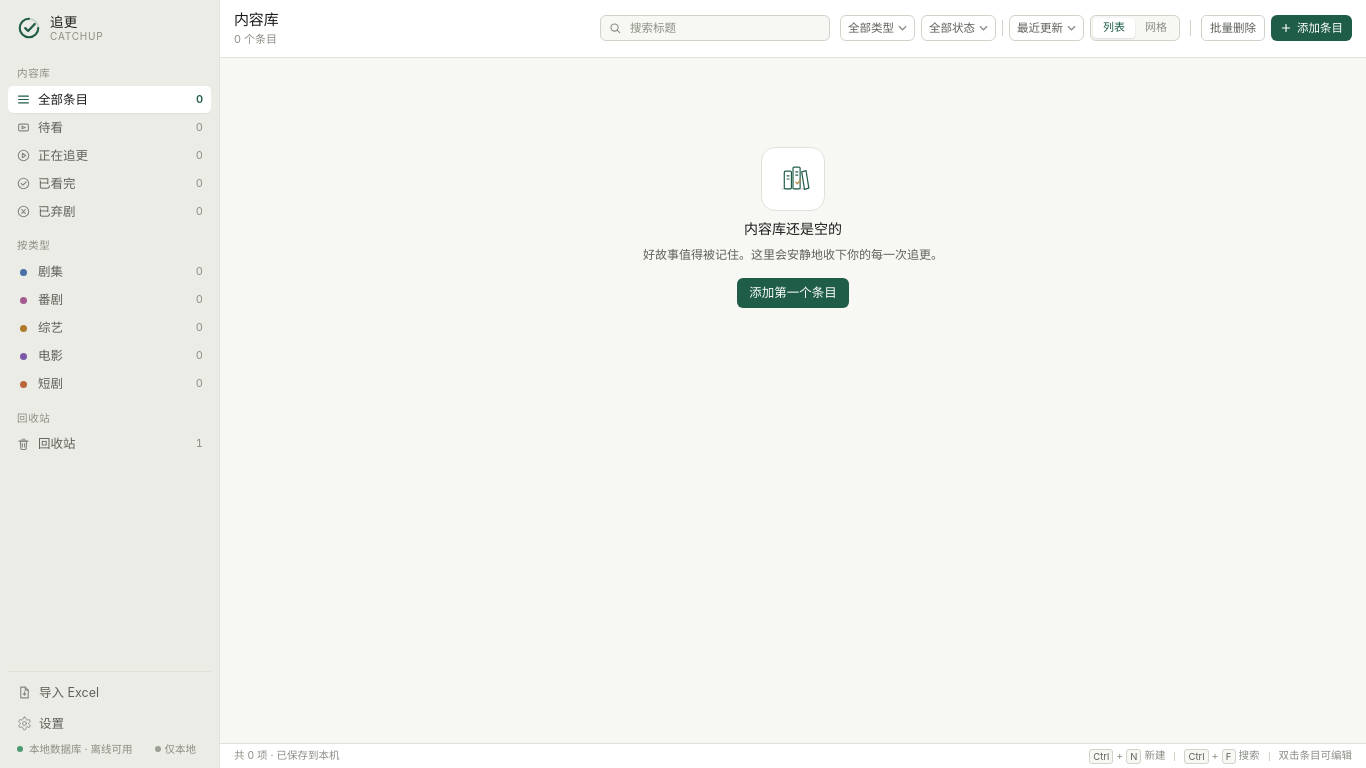
Test: 回收站 › 彻底删除需要二次确认，取消后条目和数据保持不变
Click the button "回收站 1" at (110, 444), box [8,431,211,458]
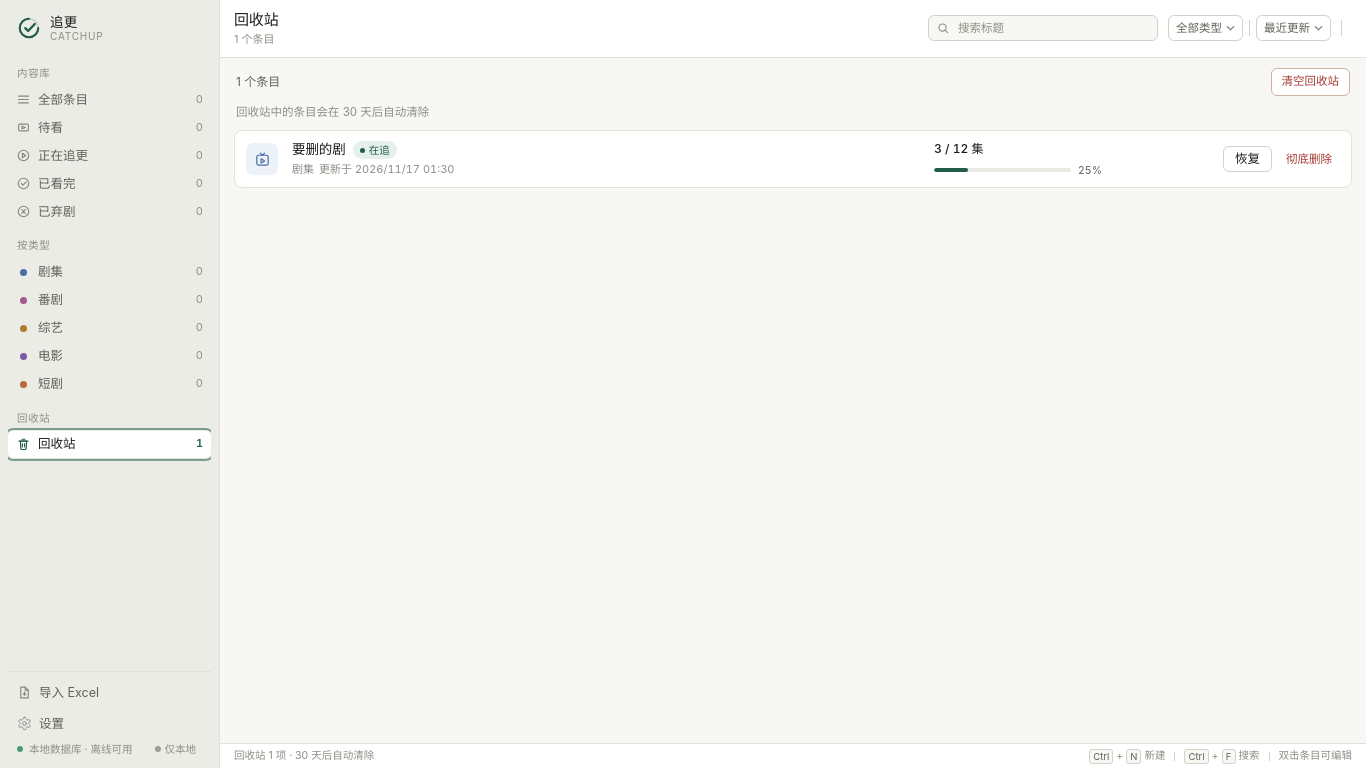
Click the button with aria-label "彻底删除《要删的剧》" at (1309, 159), box [1278,146,1340,172]
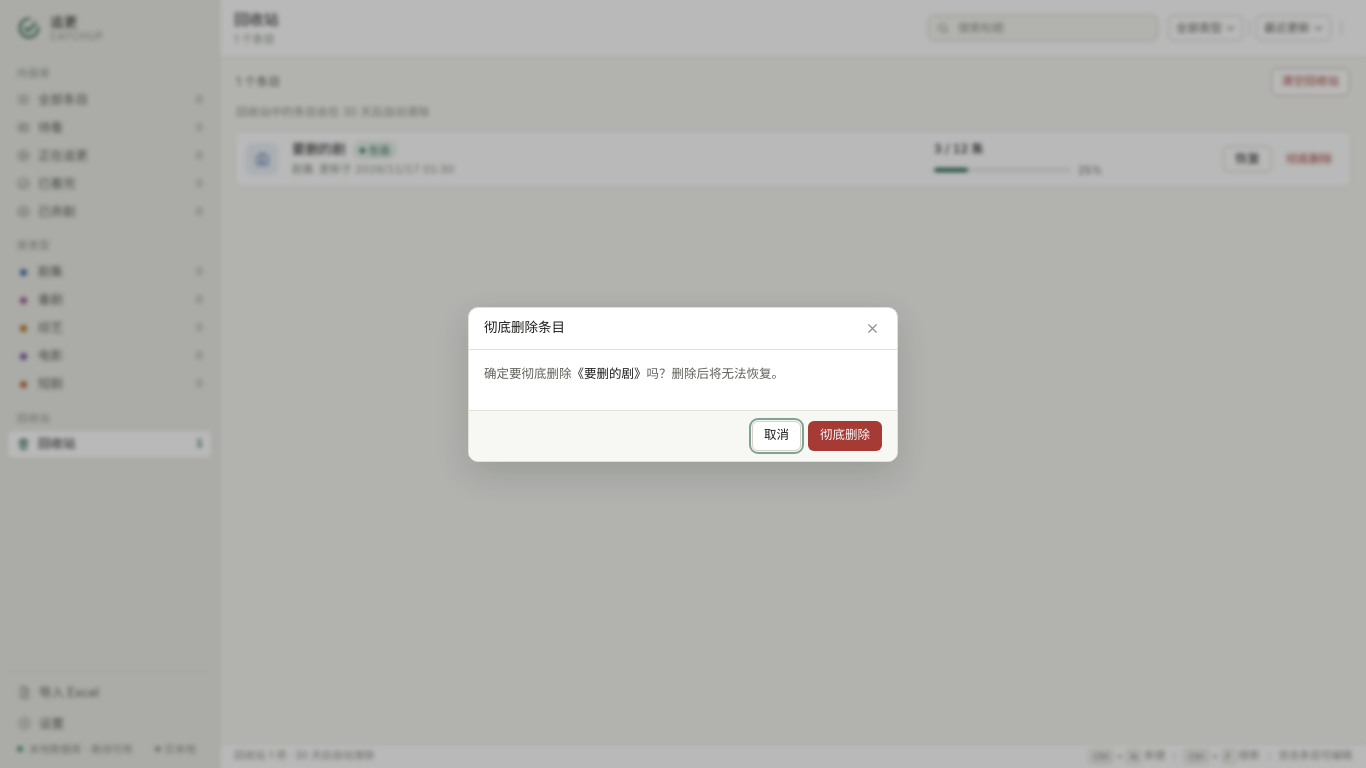
Now the dialog "彻底删除条目" shows "删除后将无法恢复", box [647,366,784,380]
Click the button "取消" at (776, 436), box [752,420,801,450]
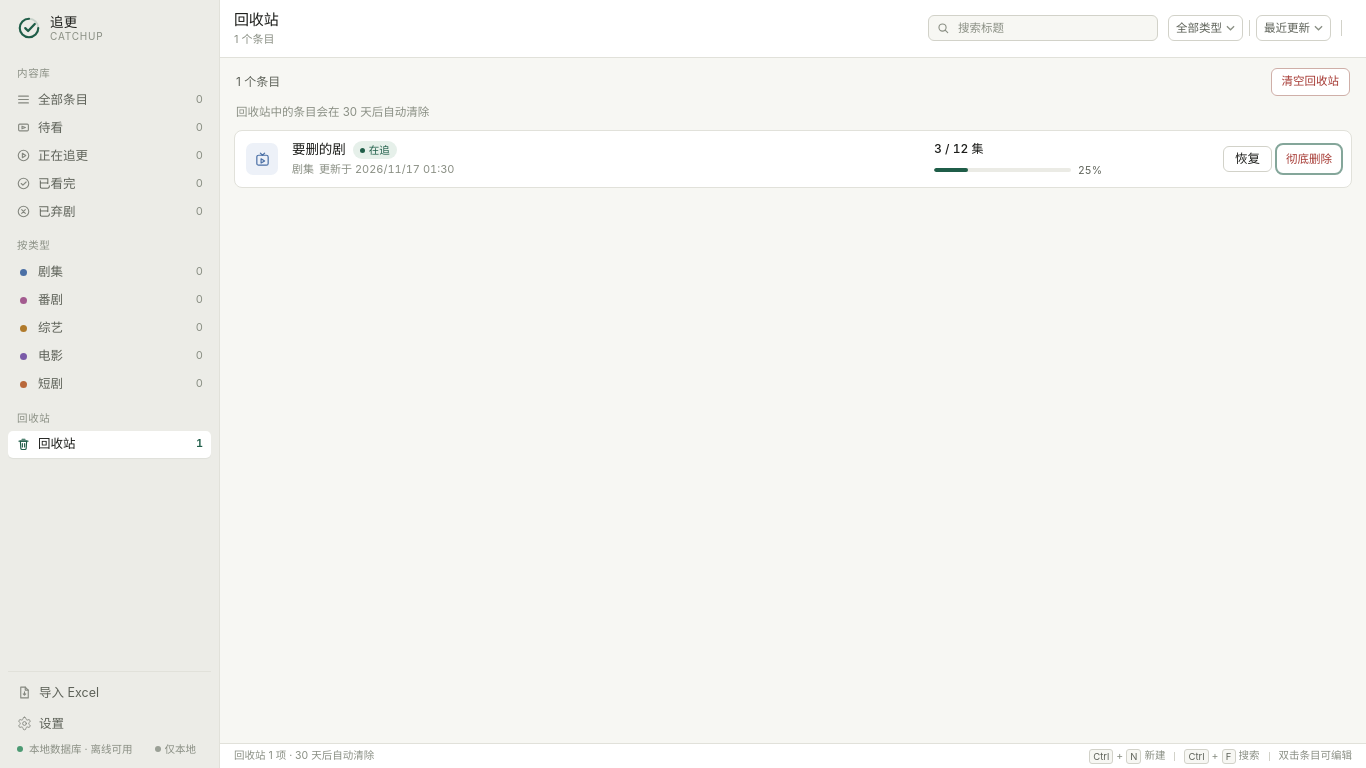
Now the element "要删的剧" is shown, box [234,130,1352,188]
Now the dialog is gone
